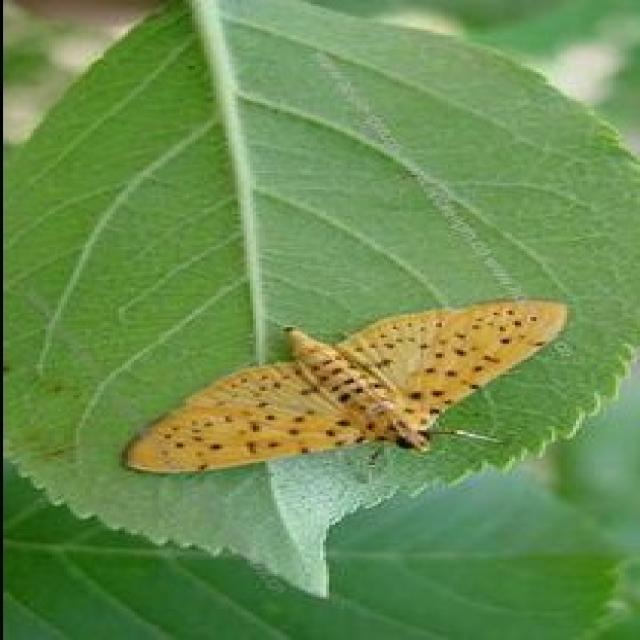peach borer: (120, 295, 571, 501)
